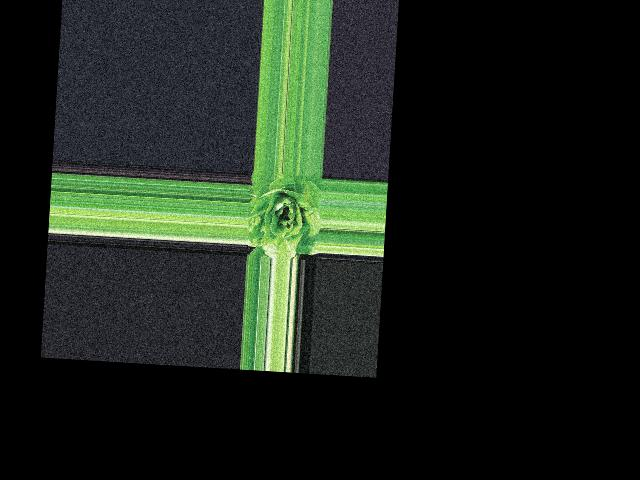lettuce: (245, 172, 320, 256)
